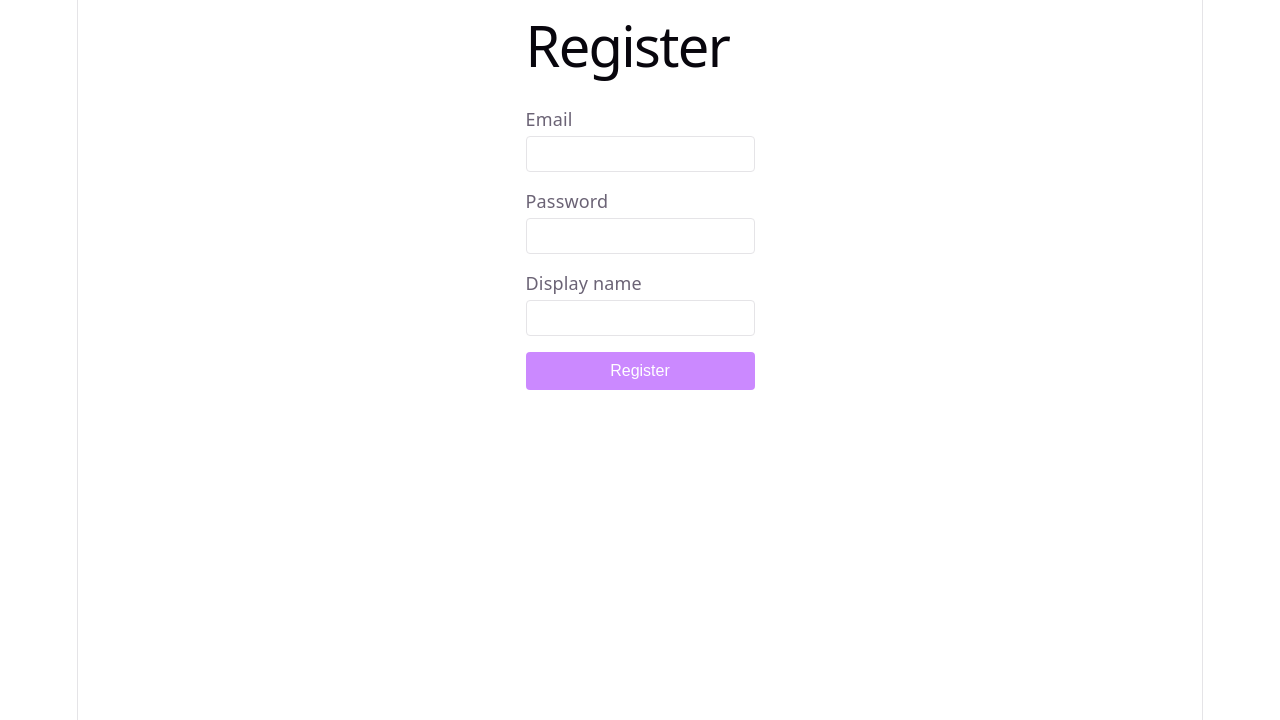
Test case: AUTH-002-AC-07: any other failure shows a generic, retry-able error › shows a generic error on an unexpected 400/5xx/network failure
Type "new@example.com" into the field labelled "Email" at {"x": 640, "y": 154}, box left=526, top=136, right=754, bottom=172
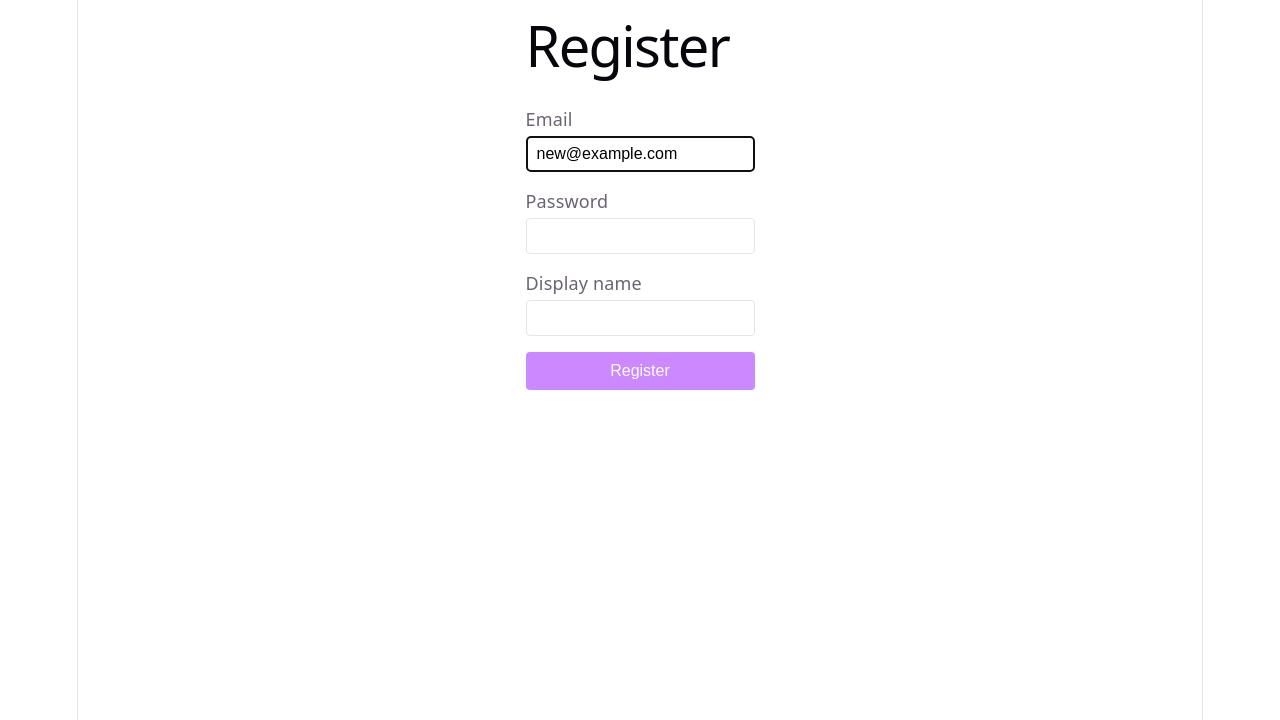
Type "a-long-enough-password" into the password field labelled "Password" at {"x": 640, "y": 236}, box left=526, top=218, right=754, bottom=254
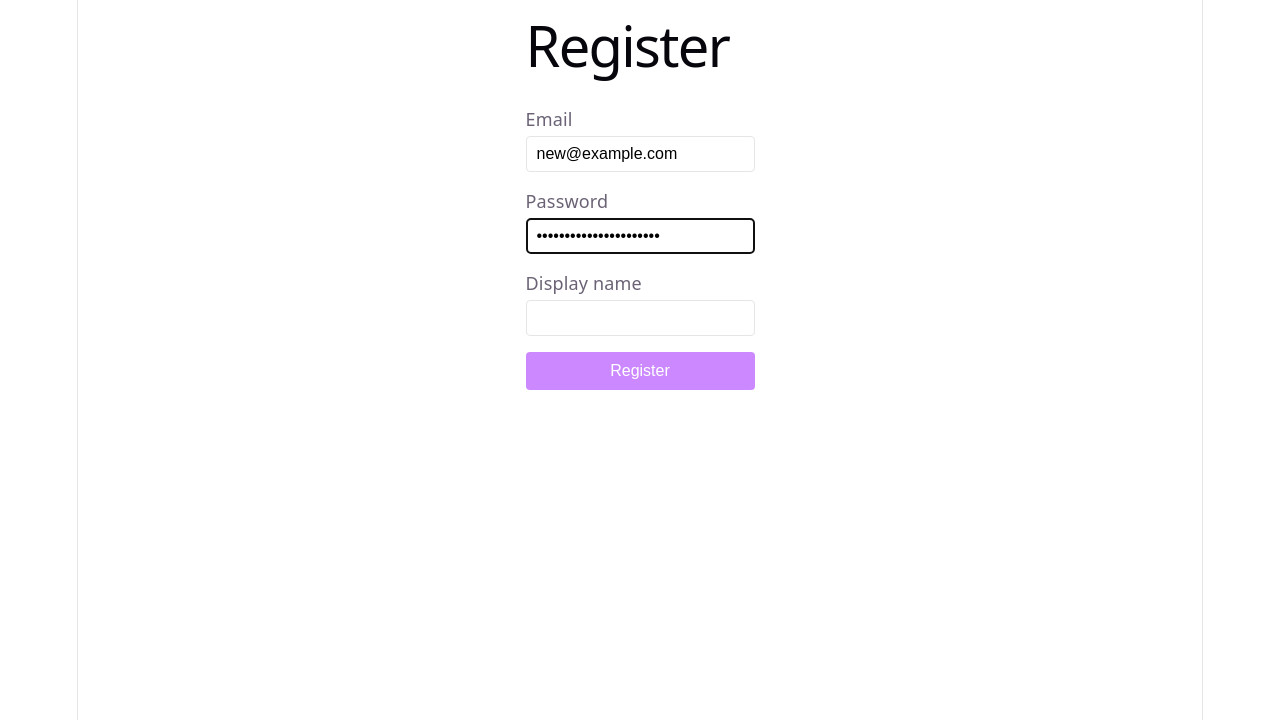
Type "Steve" into the field labelled "Display name" at {"x": 640, "y": 318}, box left=526, top=300, right=754, bottom=336
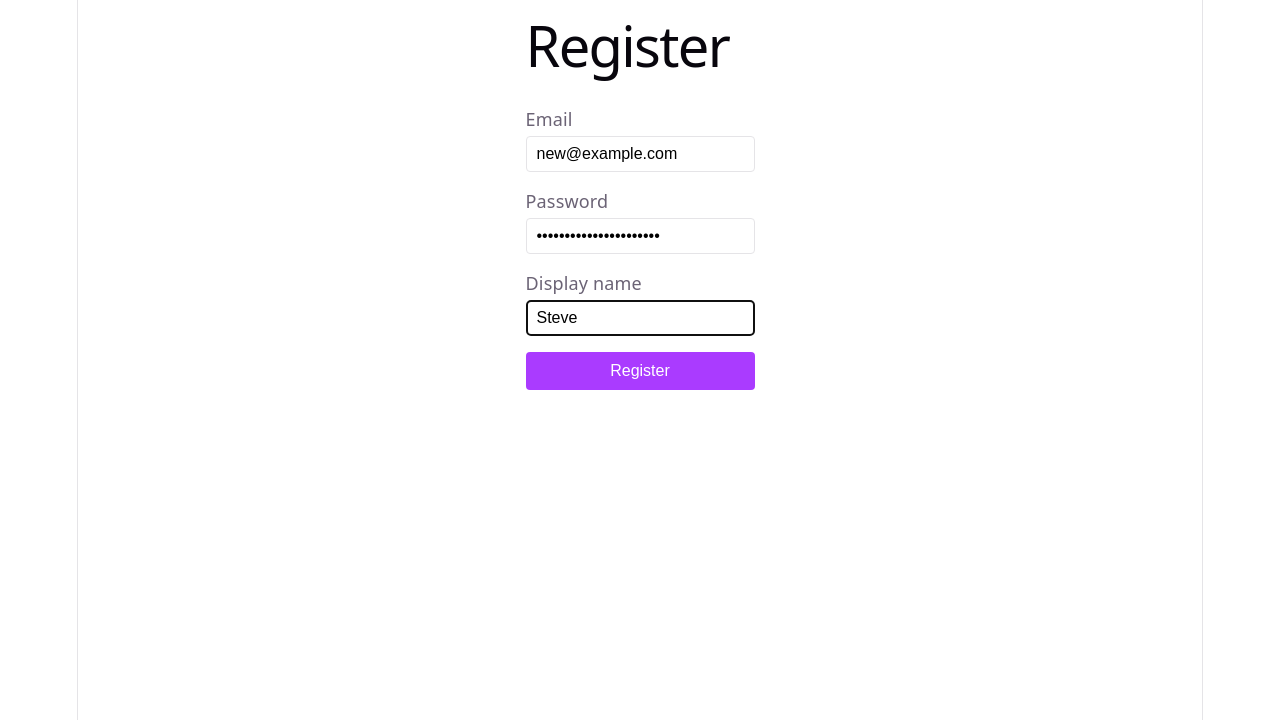
Click the button "Register" at {"x": 640, "y": 371}, box left=526, top=352, right=754, bottom=390
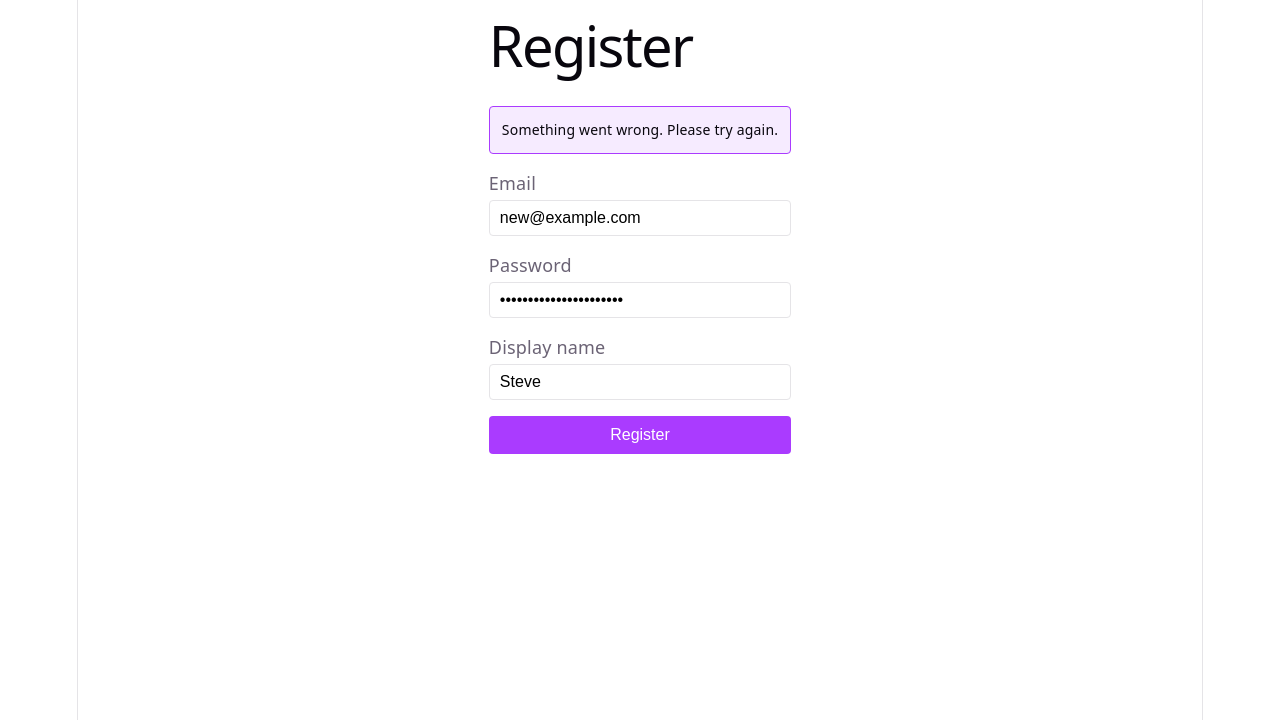
Check: the message shows "Something went wrong", box left=502, top=120, right=778, bottom=139
